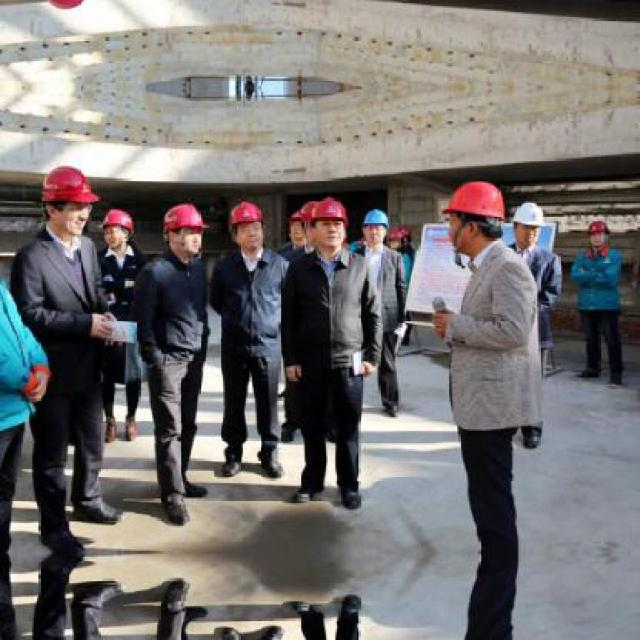helmet: (441, 175, 507, 252), (39, 162, 96, 229), (161, 200, 205, 258), (304, 192, 348, 248), (226, 198, 266, 251), (509, 198, 546, 245), (98, 206, 136, 249), (360, 203, 391, 243), (287, 202, 307, 247), (586, 217, 608, 248)
